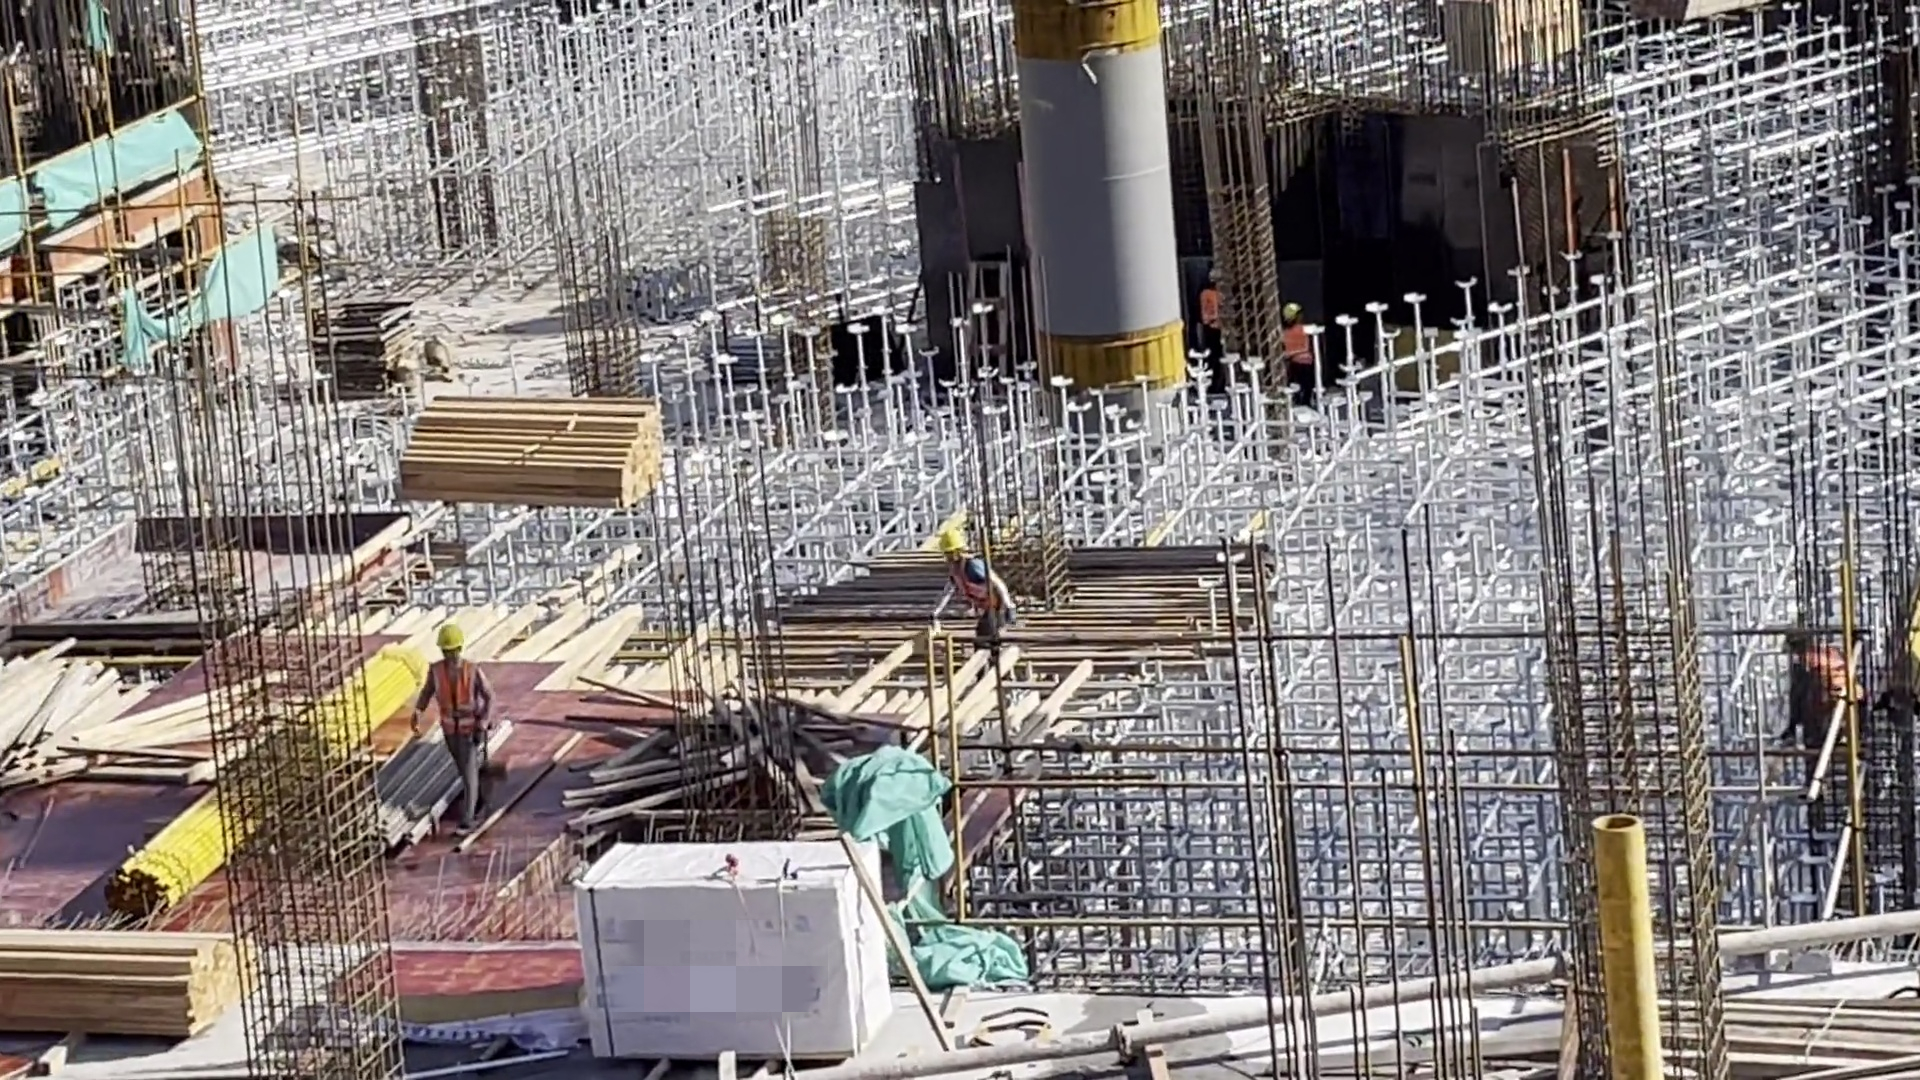board: (312, 284, 434, 418)
helmet: (938, 518, 979, 565), (433, 627, 470, 662), (1280, 301, 1304, 331), (1205, 263, 1225, 284)
person: (406, 619, 494, 849), (936, 524, 1018, 672), (1280, 302, 1327, 409), (1202, 266, 1229, 377)
vest: (430, 661, 485, 744), (947, 558, 1004, 621), (1277, 324, 1317, 379), (1199, 285, 1235, 343)
wood: (1, 885, 229, 1055), (397, 384, 669, 505)
